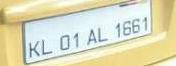0: (58, 31, 71, 51)
1: (112, 20, 121, 38), (71, 31, 80, 47), (140, 15, 148, 32)
6: (129, 17, 140, 34), (121, 18, 131, 36)
A: (85, 26, 97, 44)
K: (26, 38, 39, 57)
L: (40, 36, 52, 55), (96, 26, 108, 42)
